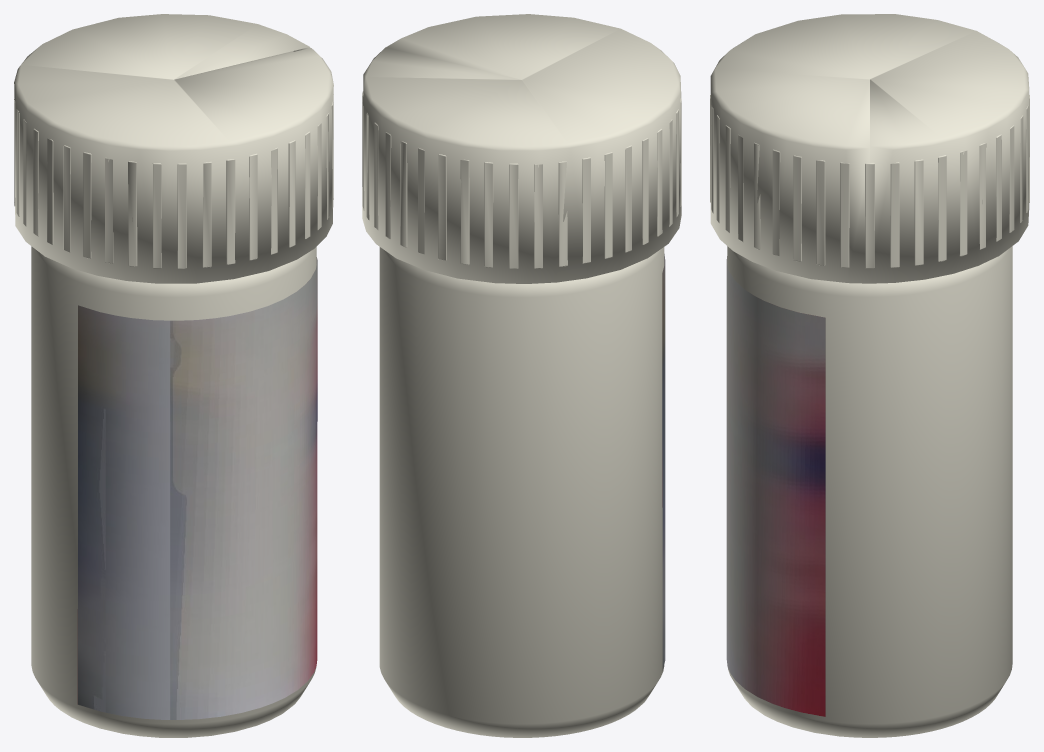
3 views of the same model, side by side, from view 1: azimuth 30°, elevation 25°; view 2: azimuth 150°, elevation 25°; view 3: azimuth 270°, elevation 25° (orthographic).
Parts seen in each view (by area): view 1: white_tube__body, white_tube__cap; view 2: white_tube__body, white_tube__cap; view 3: white_tube__body, white_tube__cap.
Boxes of the visible parts, bbox=[...] form: white_tube__body: bbox=[31, 246, 317, 737]; white_tube__cap: bbox=[14, 14, 333, 283]; white_tube__body: bbox=[379, 247, 665, 737]; white_tube__cap: bbox=[362, 14, 681, 283]; white_tube__body: bbox=[726, 246, 1012, 737]; white_tube__cap: bbox=[710, 14, 1029, 283].
Bounding box in the file's own units: 0.0461 × 0.0959 × 0.0461.
3 materials, 1 textured.
